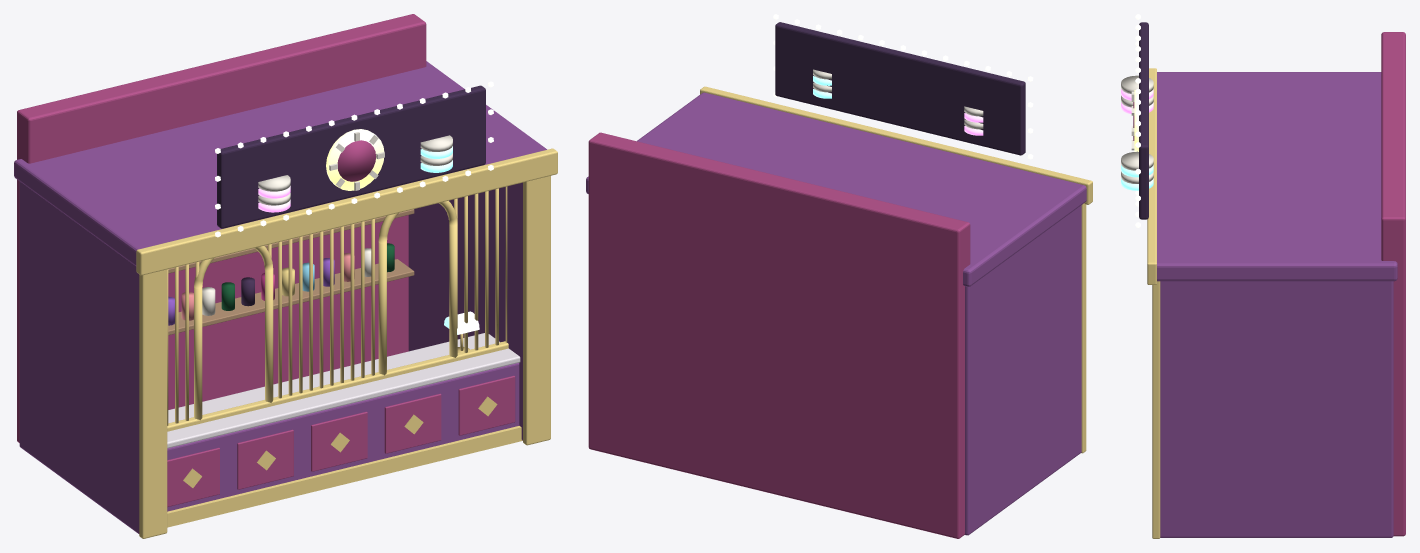
The model's file is pc_cage.glb.
3 renders of one model, left to right at view 1: azimuth 30°, elevation 25°; view 2: azimuth 150°, elevation 25°; view 3: azimuth 270°, elevation 25°, orthographic. The views are drawn at different scales.
Parts seen in each view (by area): view 1: pc_cage; view 2: pc_cage; view 3: pc_cage.
Boxes of the visible parts, left/top/right/bottom form: pc_cage: left=14, top=14, right=557, bottom=538; pc_cage: left=586, top=14, right=1092, bottom=538; pc_cage: left=1121, top=14, right=1405, bottom=538.
Bounding box in the file's own units: 5.66 × 4.93 × 3.48.
